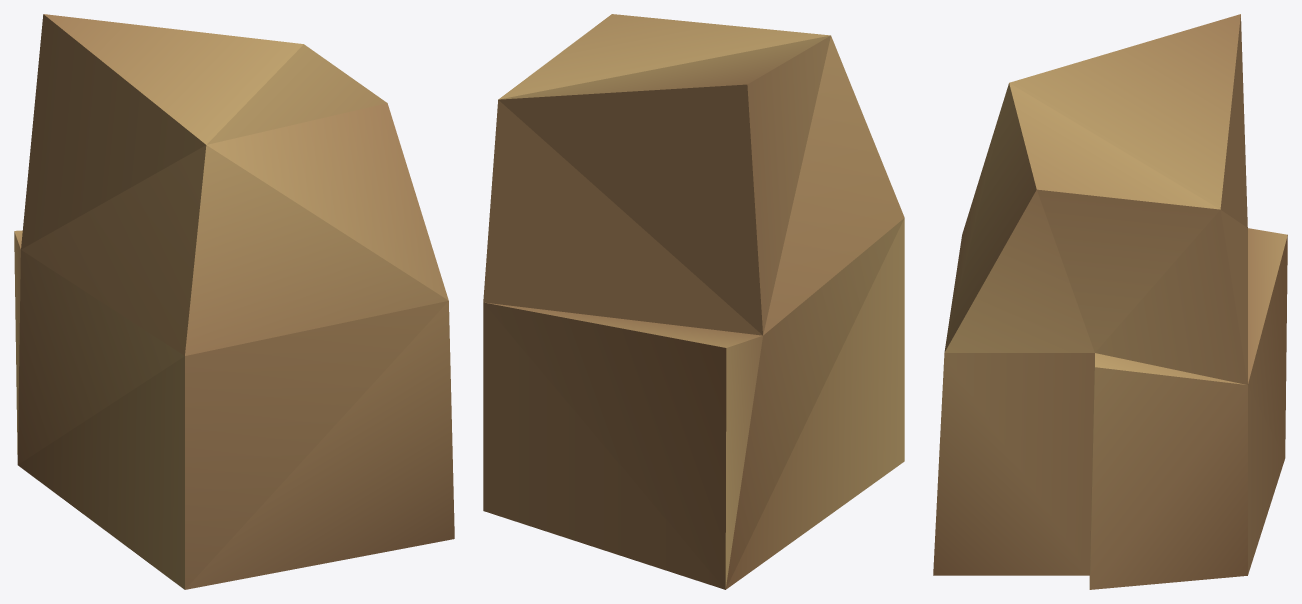
File: Mixed_Wall_02.fbx
3 renders of one model, left to right at view 1: azimuth 30°, elevation 25°; view 2: azimuth 150°, elevation 25°; view 3: azimuth 270°, elevation 25°, orthographic. The views are drawn at different scales.
Parts seen in each view (by area): view 1: Wall_02.001; view 2: Wall_02.001; view 3: Wall_02.001.
Boxes of the visible parts, bbox=[...] form: Wall_02.001: bbox=[14, 14, 454, 589]; Wall_02.001: bbox=[483, 14, 904, 589]; Wall_02.001: bbox=[933, 14, 1287, 589].
Size of the model in its own units: 110 by 164 by 118.
